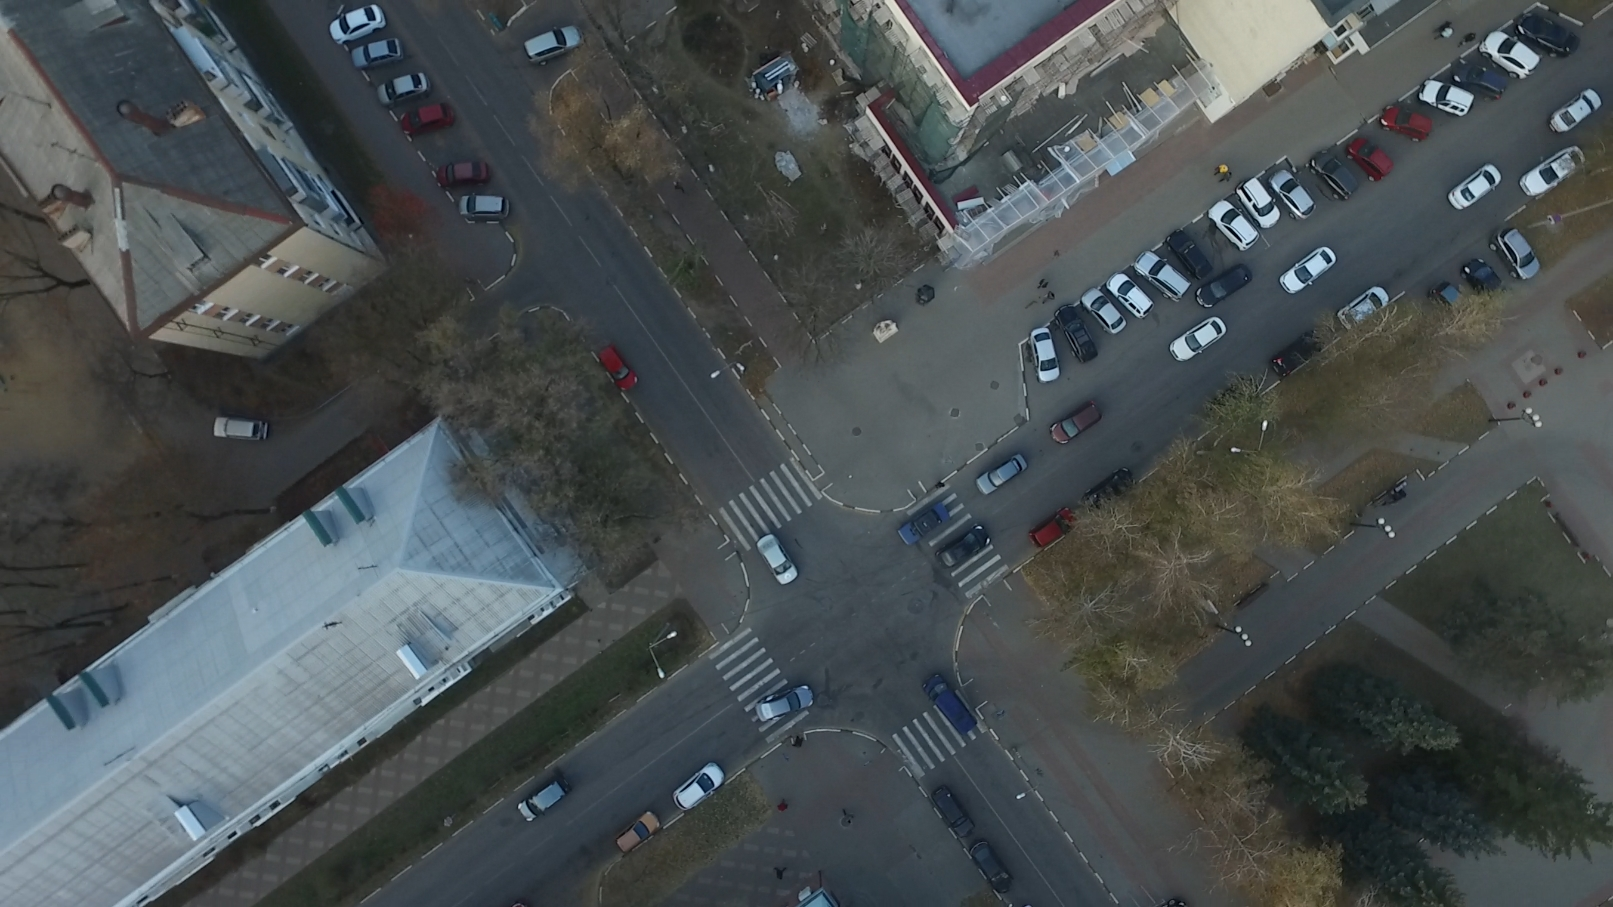car: (1518, 147, 1585, 198), (922, 674, 976, 734), (1132, 248, 1191, 302), (1514, 11, 1579, 60), (1276, 246, 1338, 295), (1547, 84, 1601, 138), (1482, 28, 1539, 80), (1163, 316, 1227, 361), (1193, 262, 1252, 311), (521, 22, 588, 64), (1205, 200, 1260, 252), (1267, 328, 1325, 377), (1052, 303, 1098, 363), (1444, 164, 1503, 209), (1490, 227, 1540, 281), (669, 761, 725, 810), (1077, 467, 1133, 513), (510, 782, 572, 823), (1079, 285, 1129, 336), (1105, 270, 1154, 321), (1331, 287, 1389, 330), (970, 454, 1030, 496), (933, 523, 988, 568), (1044, 404, 1105, 445), (968, 837, 1011, 895), (1164, 230, 1213, 281), (1268, 169, 1316, 221), (1309, 150, 1357, 202), (929, 784, 975, 838), (327, 3, 388, 43), (1459, 254, 1507, 305), (1233, 179, 1281, 230), (756, 682, 814, 723), (894, 502, 951, 544), (1344, 138, 1393, 186), (1026, 506, 1079, 549), (754, 533, 799, 584), (1455, 56, 1506, 101), (612, 811, 662, 852), (1421, 78, 1472, 118), (596, 346, 640, 392), (1027, 327, 1062, 384), (1381, 104, 1431, 143), (395, 102, 452, 135), (377, 74, 431, 109), (1430, 282, 1473, 322), (348, 38, 405, 68), (214, 416, 268, 443), (458, 194, 510, 221), (436, 161, 490, 187)
